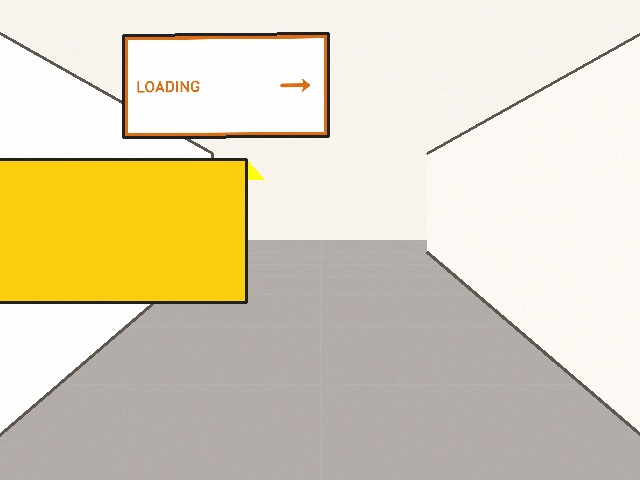directional_sign: (123, 33, 328, 137)
forklift: (0, 159, 264, 302)
